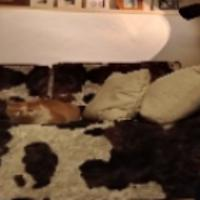asleep: (4, 93, 81, 125)
